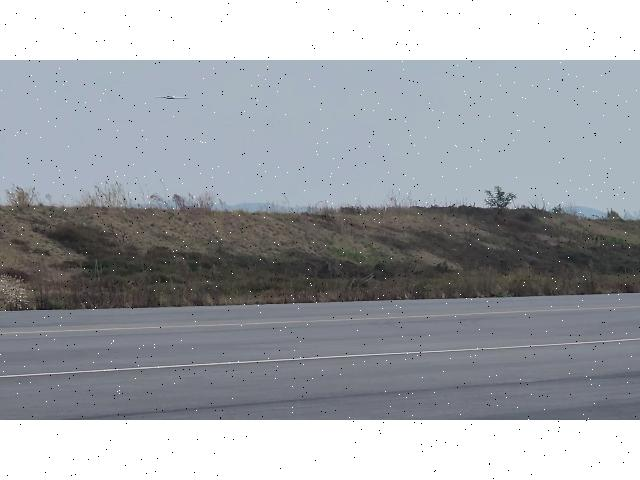Anti-Drone: (154, 94, 190, 103)
